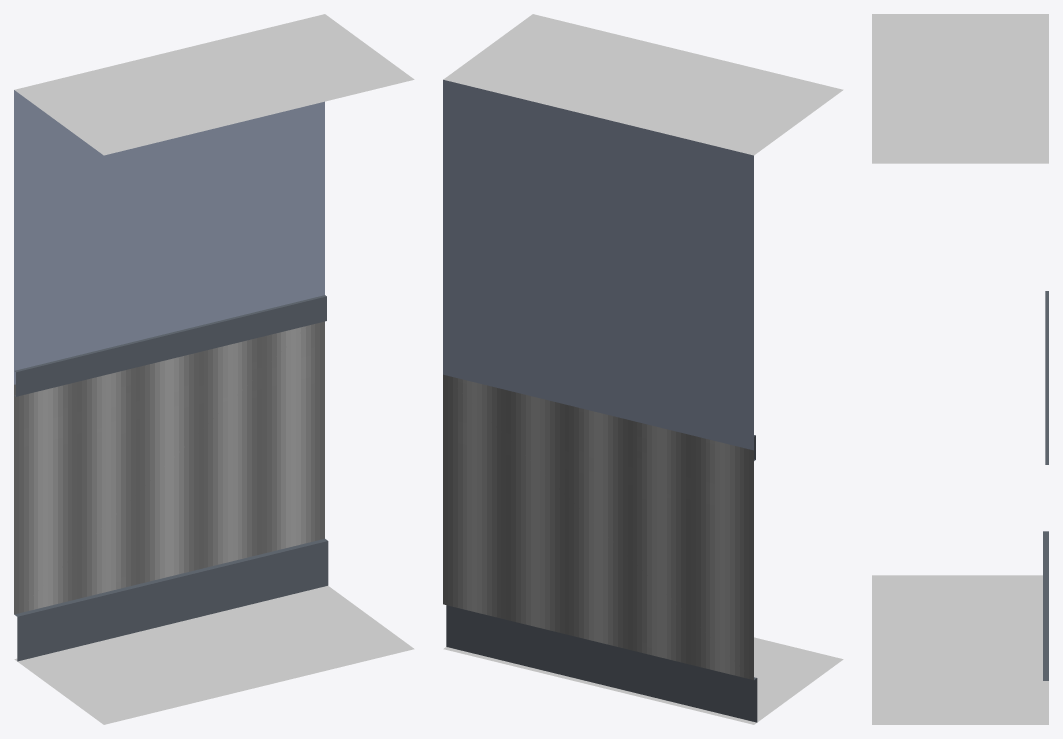
Rendered from roomA_wallStraight_mdl.fbx.
3 renders of one model, left to right at view 1: azimuth 30°, elevation 25°; view 2: azimuth 150°, elevation 25°; view 3: azimuth 270°, elevation 25°, orthographic.
Visible parts, largest first — view 1: polySurface21, polySurface3, polySurface1; view 2: polySurface21, polySurface3, polySurface1; view 3: polySurface3, polySurface1, polySurface21.
Boxes of the visible parts, x1=… form: polySurface21: x1=14, y1=90, x2=328, y2=661; polySurface3: x1=14, y1=14, x2=414, y2=155; polySurface1: x1=14, y1=586, x2=414, y2=724; polySurface21: x1=443, y1=79, x2=757, y2=722; polySurface3: x1=443, y1=14, x2=843, y2=155; polySurface1: x1=443, y1=637, x2=843, y2=724; polySurface3: x1=872, y1=14, x2=1048, y2=163; polySurface1: x1=872, y1=575, x2=1048, y2=724; polySurface21: x1=1043, y1=291, x2=1048, y2=680.
Bounding box in the file's own units: 2 × 3.5 × 1.
